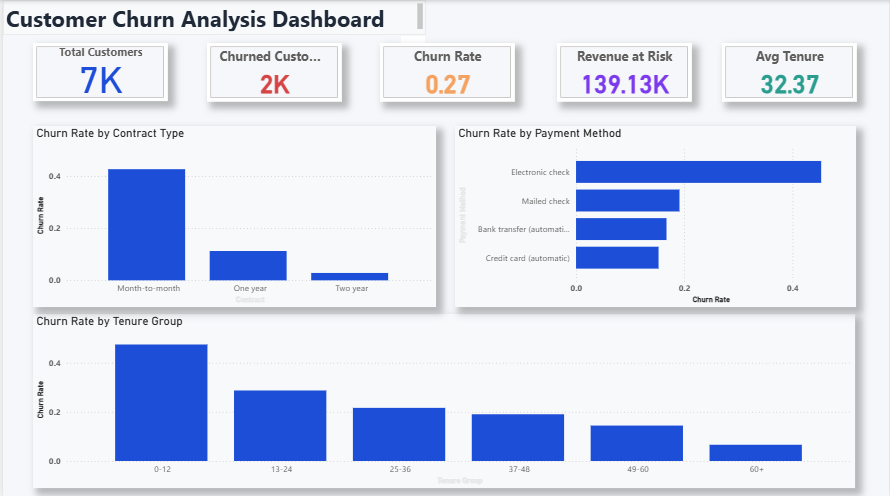

The page's visual inventory and layout, read from the dashboard file:
{"tool":"powerbi","page":{"name":"Customer Churn Analysis ","canvas":[1280,720],"ordinal":0},"visuals":[{"type":"cardVisual","fields":{"Data":["churn_predictions.Total Customers"]},"box":[43.9,62.4,194.8,84.3],"z":0},{"type":"cardVisual","fields":{"Data":["churn_predictions.Churned Customers"]},"box":[295,62.1,194.5,84.8],"z":1000},{"type":"textbox","box":[0,0,612.1,50],"z":2000},{"type":"cardVisual","fields":{"Data":["churn_predictions.Churn Rate"]},"box":[545.3,62.1,194.5,84.8],"z":3000},{"type":"clusteredColumnChart","title":"Churn Rate by Contract Type","fields":{"Category":["churn_predictions.Contract"],"Y":["churn_predictions.Churn Rate"]},"box":[43.9,181.8,583.3,262.1],"z":4000},{"type":"cardVisual","fields":{"Data":["churn_predictions.Revenue at Risk"]},"box":[800.4,62.1,194.5,84.8],"z":5000},{"type":"clusteredBarChart","title":"Churn Rate by Payment Method","fields":{"Category":["churn_predictions.Payment Method"],"Y":["churn_predictions.Churn Rate"]},"box":[653,181.8,580.3,262.1],"z":6000},{"type":"cardVisual","fields":{"Data":["churn_predictions.Avg Tenure"]},"box":[1039.5,62.1,194.5,84.8],"z":7000},{"type":"columnChart","fields":{"Category":["churn_predictions.Tenure Group"],"Y":["churn_predictions.Churn Rate"]},"box":[43.9,454.5,1189.4,251.5],"z":8000}]}

Visuals, with their boxes in screenshot pixels (x1, y1, x2, y2), scaled from the page's 1280x720 canvas onto the 890x496 screenshot:
cardVisual - churn_predictions.Total Customers: x1=31 y1=43 x2=166 y2=101
cardVisual - churn_predictions.Churned Customers: x1=205 y1=43 x2=340 y2=101
textbox: x1=0 y1=0 x2=426 y2=34
cardVisual - churn_predictions.Churn Rate: x1=379 y1=43 x2=514 y2=101
"Churn Rate by Contract Type" clusteredColumnChart: x1=31 y1=125 x2=436 y2=306
cardVisual - churn_predictions.Revenue at Risk: x1=557 y1=43 x2=692 y2=101
"Churn Rate by Payment Method" clusteredBarChart: x1=454 y1=125 x2=858 y2=306
cardVisual - churn_predictions.Avg Tenure: x1=723 y1=43 x2=858 y2=101
columnChart - churn_predictions.Tenure Group x churn_predictions.Churn Rate: x1=31 y1=313 x2=858 y2=486
